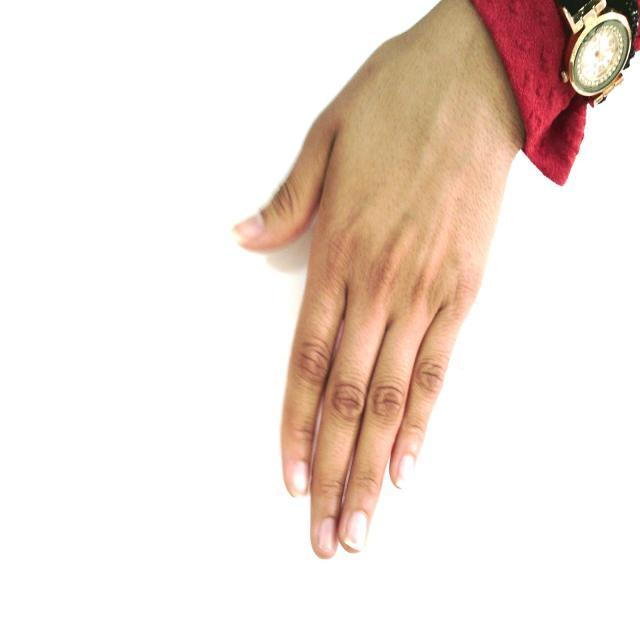Fingernail: (344, 512, 367, 550), (232, 215, 262, 242), (395, 456, 414, 489), (292, 462, 309, 497), (319, 519, 336, 552)
